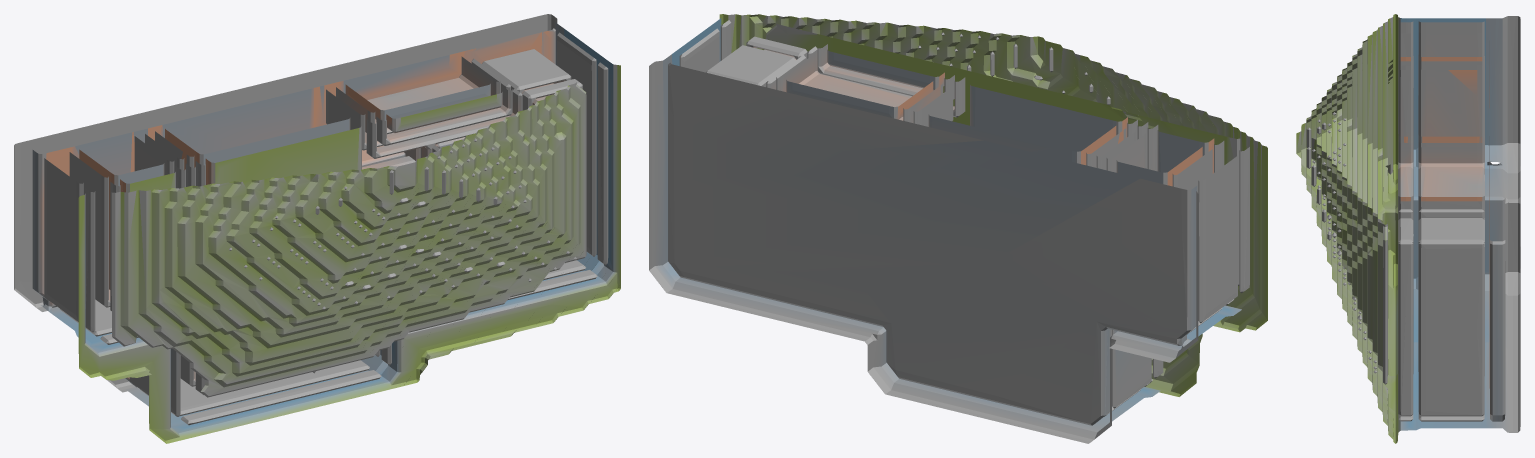
The model's file is 01440_original_cutaway.glb.
3 renders of one model, left to right at view 1: azimuth 30°, elevation 25°; view 2: azimuth 150°, elevation 25°; view 3: azimuth 270°, elevation 25°, orthographic. The views are drawn at different scales.
Visible parts, largest first — view 1: world; view 2: world; view 3: world.
Part boxes in pixels (<box>): world: <box>14,14,620,443</box>; world: <box>649,14,1267,443</box>; world: <box>1296,14,1520,443</box>.
Size of the model in its own units: 108 by 50.97 by 43.96.
